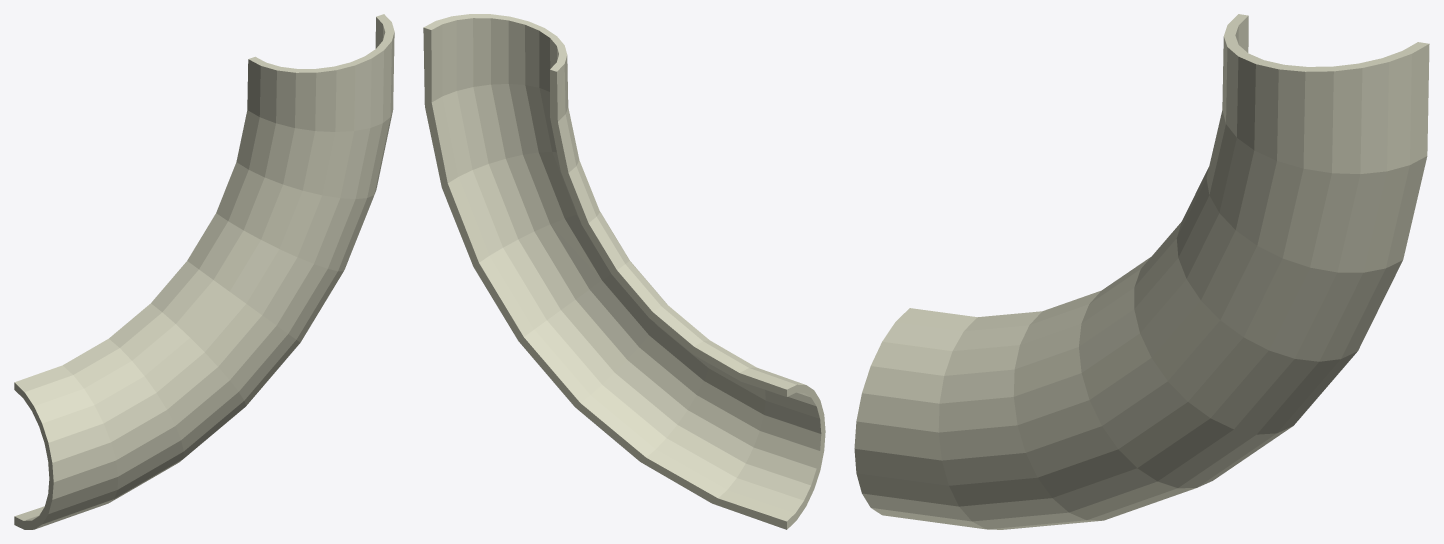
File: section_168.obj
3 renders of one model, left to right at view 1: azimuth 30°, elevation 25°; view 2: azimuth 150°, elevation 25°; view 3: azimuth 330°, elevation 25°, orthographic. The views are drawn at different scales.
Bounding box in the file's own units: 48.83 × 53.11 × 9.
